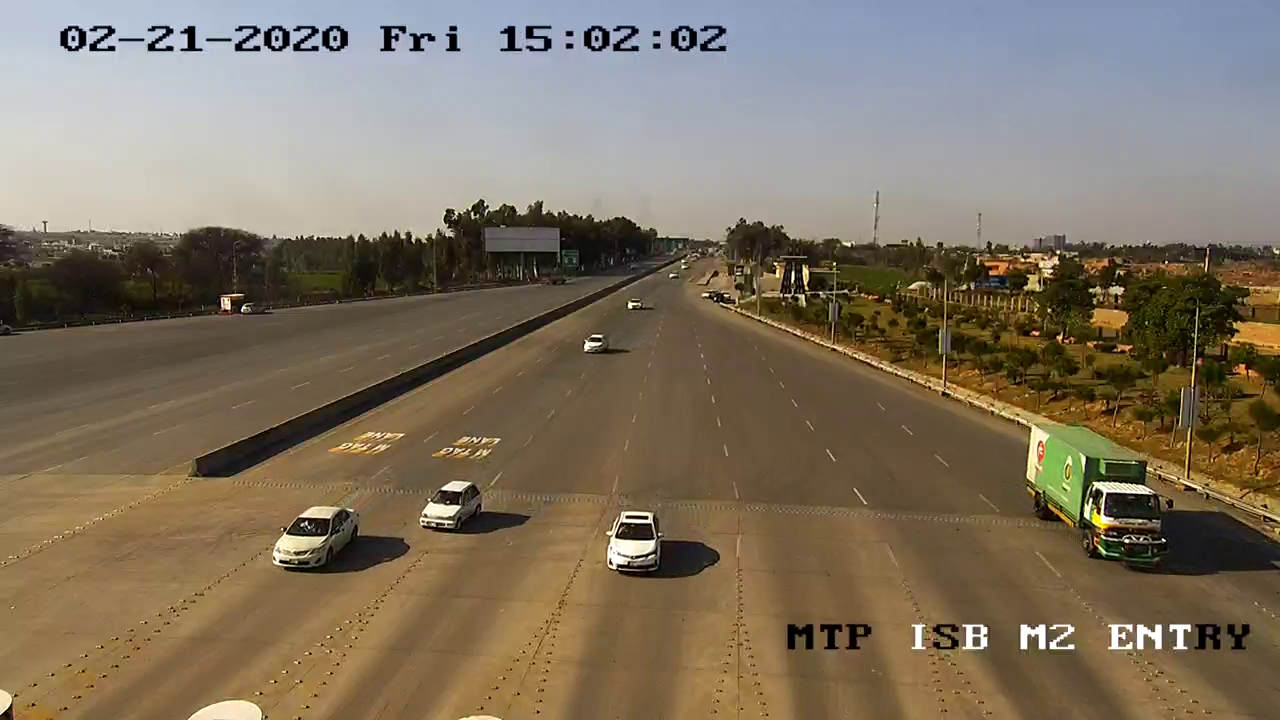f1: (263, 492, 366, 583), (592, 501, 677, 580), (412, 473, 489, 544)
f5: (995, 406, 1186, 572)
